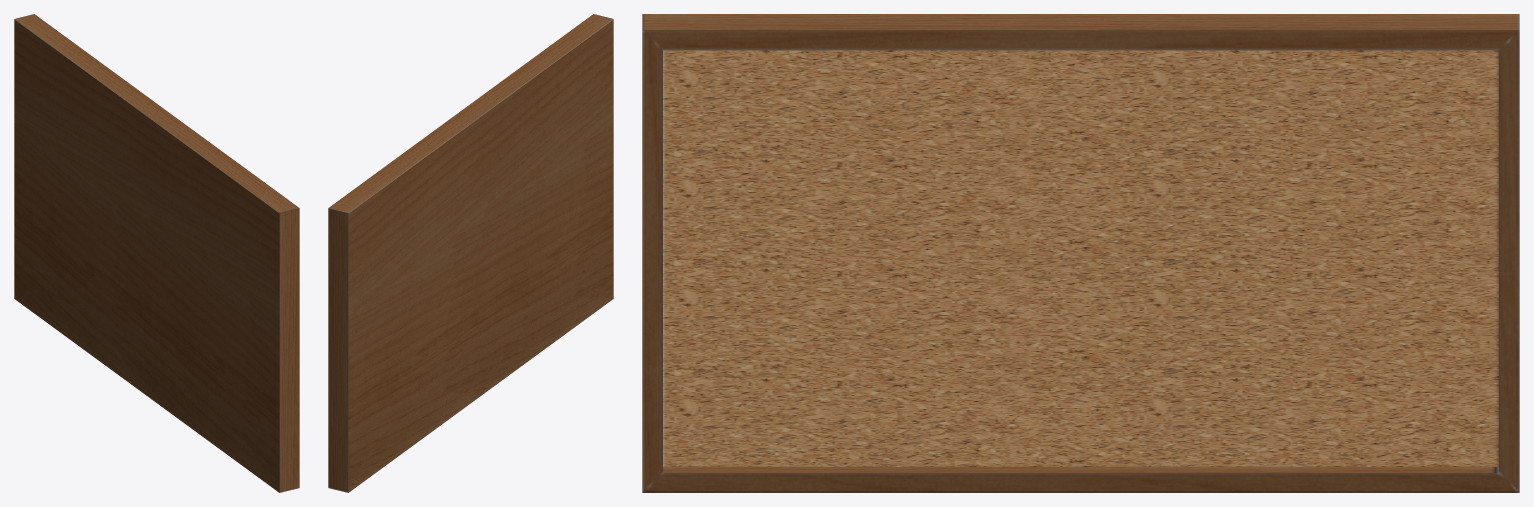
The model's file is PrikBordModel.fbx.
The picture shows the model from 3 angles, left to right: view 1: azimuth 30°, elevation 25°; view 2: azimuth 150°, elevation 25°; view 3: azimuth 270°, elevation 25°; orthographic projection. The views are drawn at different scales.
Visible parts, largest first — view 1: pCube2; view 2: pCube2; view 3: pCube2.
Boxes of the visible parts, <box> form: pCube2: <box>14,14,299,492</box>; pCube2: <box>328,14,613,492</box>; pCube2: <box>642,14,1519,492</box>.
Bounding box in the file's own units: 0.1222 × 1.61 × 2.77.
